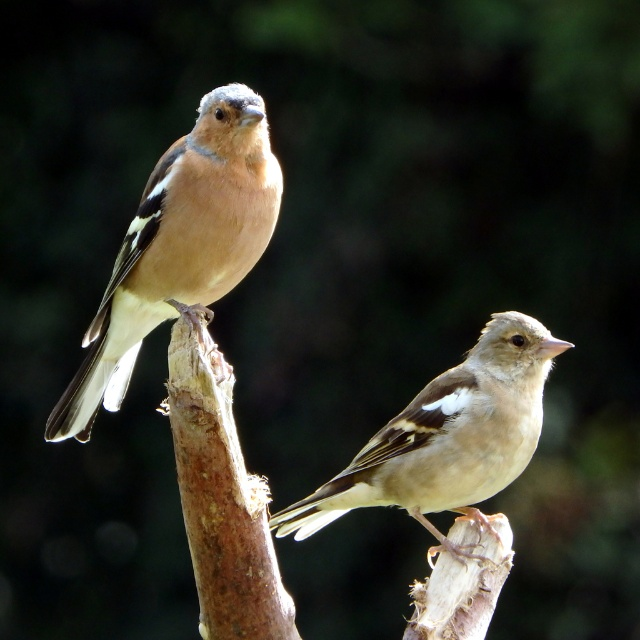Sparrow: (44, 82, 285, 444), (248, 302, 599, 541)
